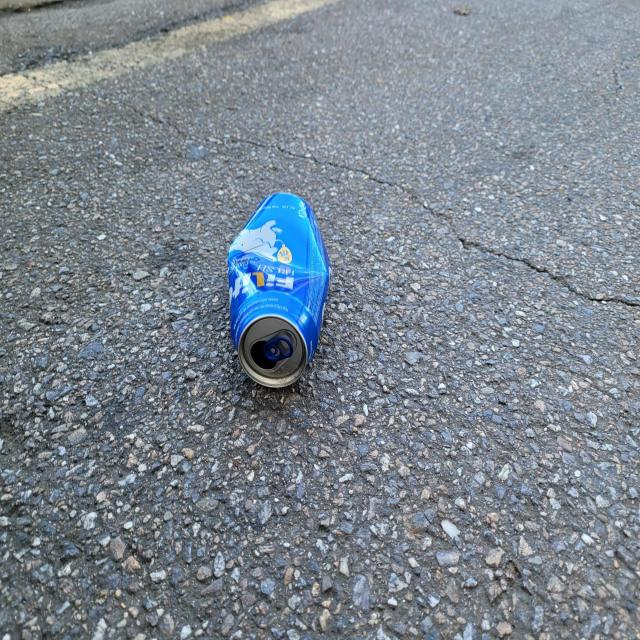can: (228, 192, 331, 387)
